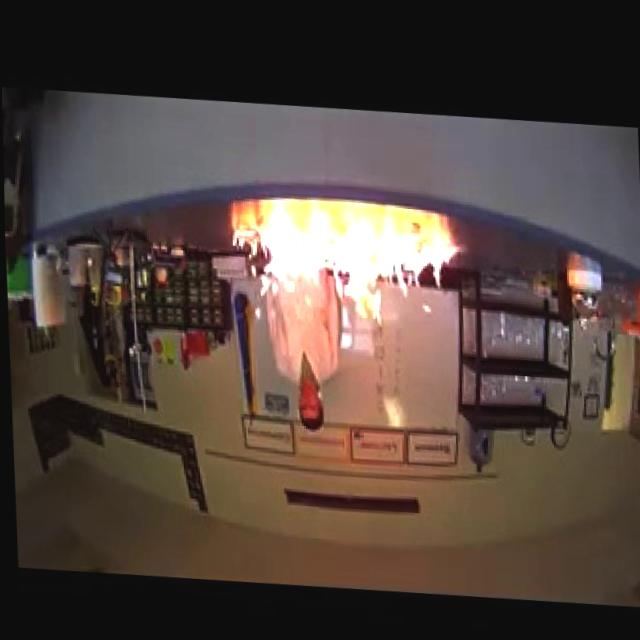Fire: (226, 214, 469, 317)
